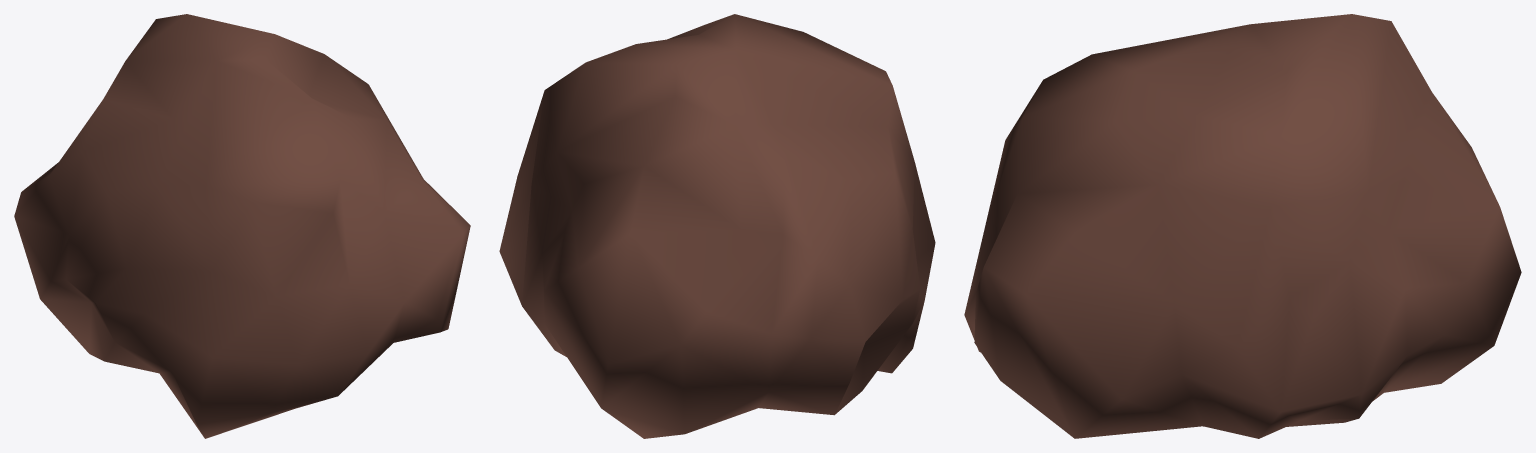
File: hvs_fillers_rockmedium01_lod01.fbx
The picture shows the model from 3 angles, left to right: view 1: azimuth 30°, elevation 25°; view 2: azimuth 150°, elevation 25°; view 3: azimuth 270°, elevation 25°; orthographic projection. The views are drawn at different scales.
Visible parts, largest first — view 1: rockmedium01_lod01.001; view 2: rockmedium01_lod01.001; view 3: rockmedium01_lod01.001.
Boxes of the visible parts, <box> form: rockmedium01_lod01.001: <box>14,14,470,438</box>; rockmedium01_lod01.001: <box>499,14,935,438</box>; rockmedium01_lod01.001: <box>964,14,1521,438</box>.
Bounding box in the file's own units: 9.57 × 8.64 × 10.75.
